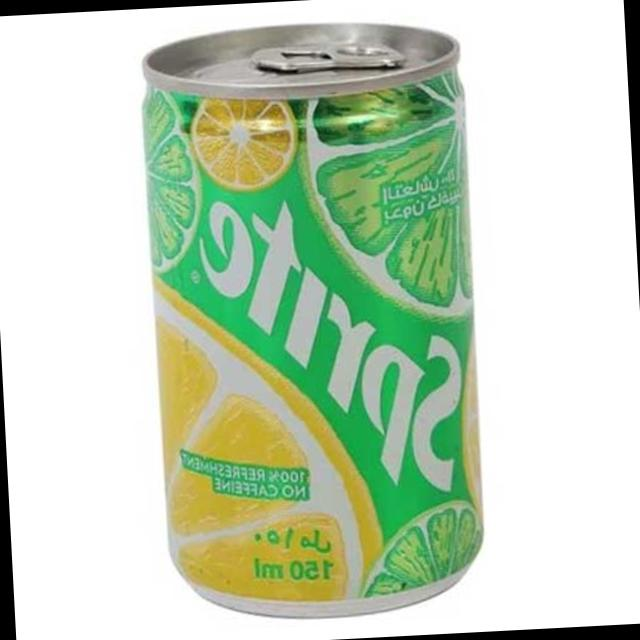sprite: (130, 28, 502, 632)
